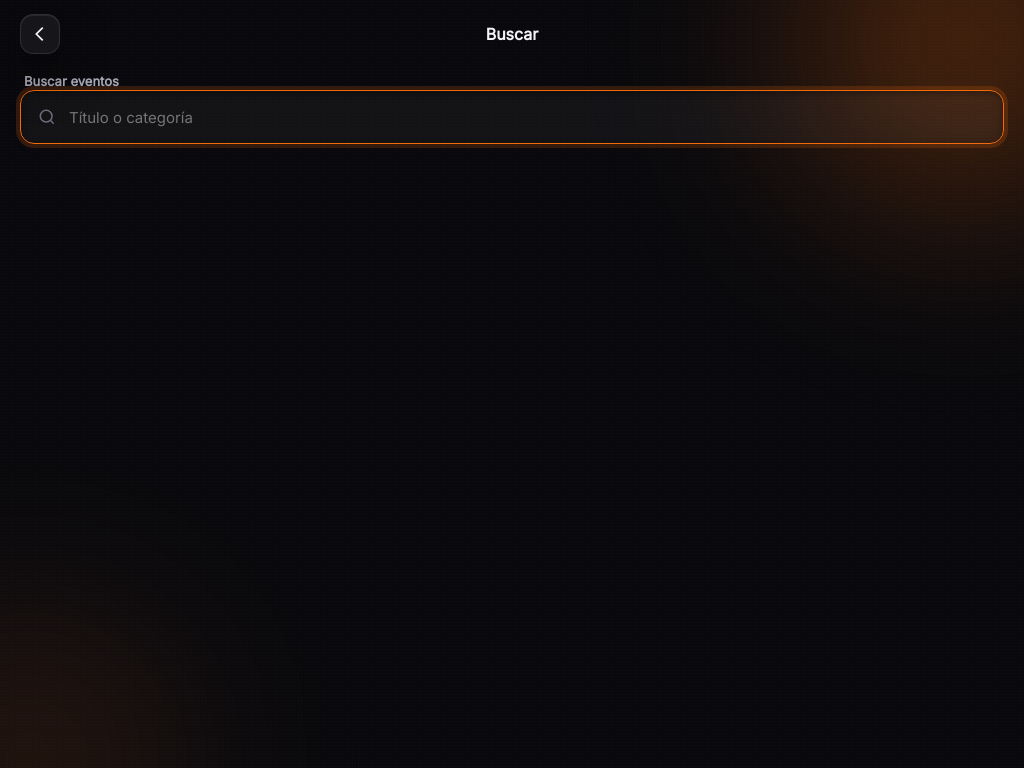
Test: buscar filtra por texto
The image size is (1024, 768).
Type "futsal" into the field labelled "Buscar eventos" at (528,117), box [69,108,987,126]
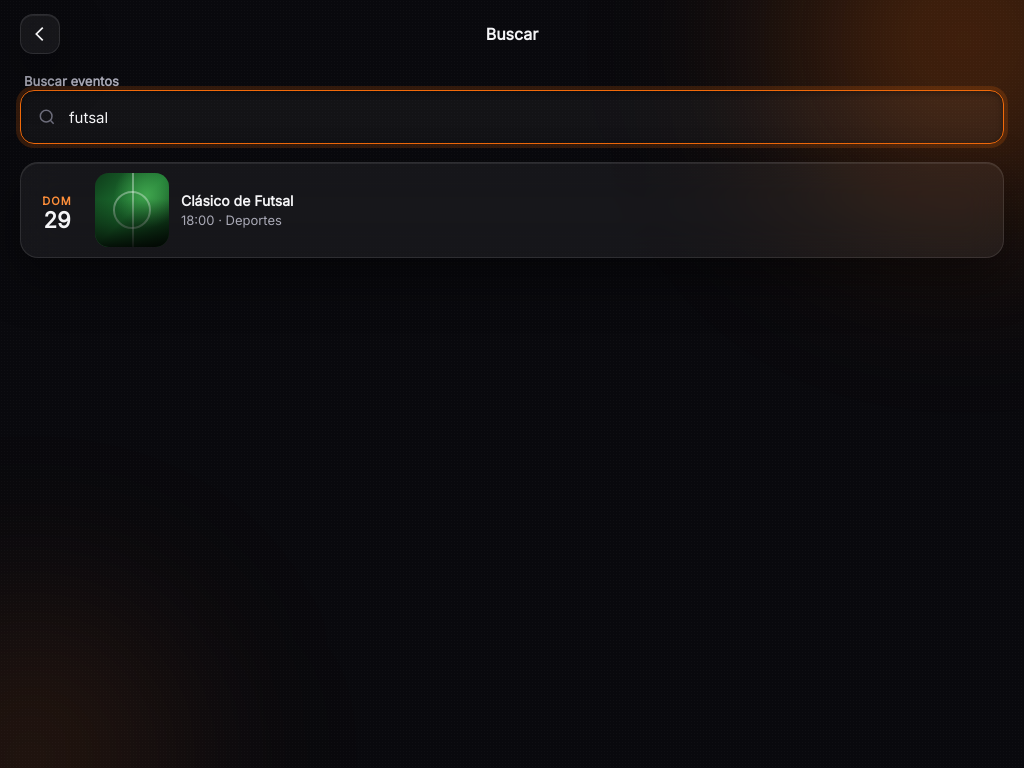
Now the heading "Clásico de Futsal" is shown, box [181,192,293,209]
